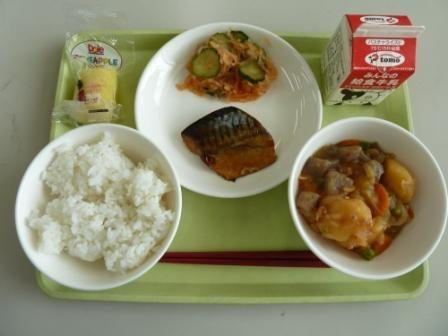Fish: (181, 106, 286, 187)
Milk: (316, 11, 429, 113)
Rice: (15, 136, 171, 277)
Salad: (177, 30, 272, 93)
cooked food meat with vegetables: (302, 128, 440, 267)
